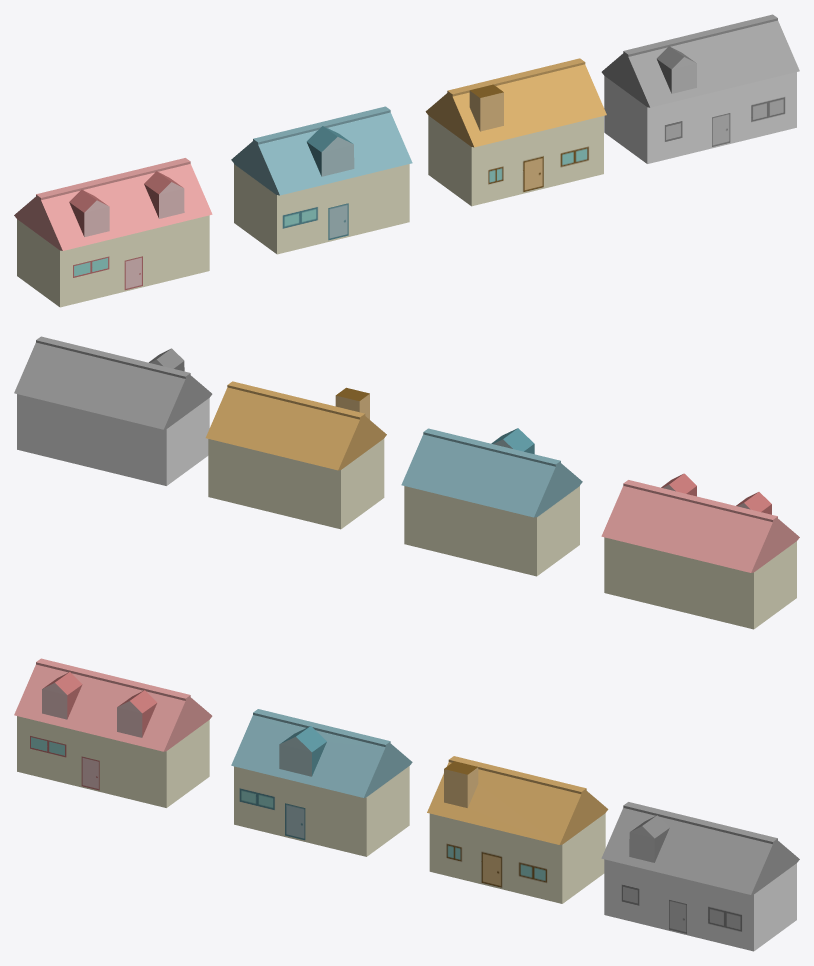
The model's file is Casas (4).FBX.
3 views of the same model, one above another, from view 1: azimuth 30°, elevation 25°; view 2: azimuth 150°, elevation 25°; view 3: azimuth 330°, elevation 25° (orthographic).
Parts seen in each view (by area): view 1: Box003, Box028, Box010, Box008; view 2: Box003, Box028, Box010, Box008; view 3: Box003, Box028, Box010, Box008.
Boxes of the visible parts, bbox=[...] form: Box003: bbox=[14, 158, 212, 307]; Box028: bbox=[601, 14, 799, 163]; Box010: bbox=[425, 58, 606, 206]; Box008: bbox=[231, 106, 412, 254]; Box003: bbox=[601, 473, 799, 629]; Box028: bbox=[14, 336, 212, 485]; Box010: bbox=[205, 381, 386, 529]; Box008: bbox=[401, 428, 582, 576]; Box003: bbox=[14, 658, 212, 807]; Box028: bbox=[601, 802, 799, 951]; Box010: bbox=[427, 756, 608, 903]; Box008: bbox=[231, 709, 412, 856].
Size of the model in its own units: 653 by 87.67 by 76.17.
